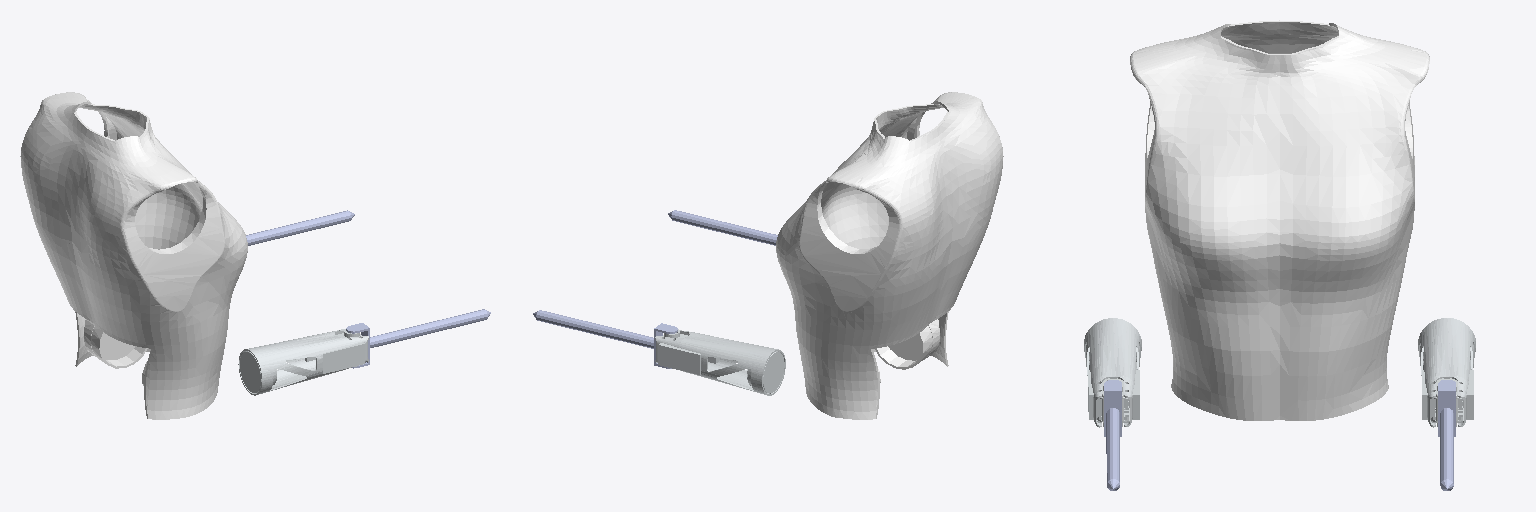
The robot description file, URDF, robot "rev4":
<?xml version="1.0"?>
<robot
  name="rev4">
  <link
    name="base_link">
    <inertial>
      <origin
        xyz="0.0329607884968544 0.000122106039684568 -0.145826303936265"
        rpy="0 0 0" />
      <mass
        value="1.27038003044167" />
      <inertia
        ixx="0"
        ixy="0"
        ixz="0"
        iyy="0"
        iyz="0"
        izz="0" />
    </inertial>
    <visual>
      <origin
        xyz="0 0 0"
        rpy="0 0 0" />
      <geometry>
        <mesh
          filename="package://robot_description/meshes/armtorso_meshes/base_link.STL" />
      </geometry>
      <material
        name="">
        <color
          rgba="1 1 1 1" />
      </material>
    </visual>
    <collision>
      <origin
        xyz="0 0 0"
        rpy="0 0 0" />
      <geometry>
        <mesh
          filename="package://robot_description/meshes/armtorso_meshes/base_link.STL" />
      </geometry>
    </collision>
  </link>
  <link
    name="ll1">
    <inertial>
      <origin
        xyz="-0.00034357189182932 -0.00466930923919515 0.0412611590398588"
        rpy="0 0 0" />
      <mass
        value="0.315360961838809" />
      <inertia
        ixx="0.000342438731972288"
        ixy="4.81994500628962E-07"
        ixz="-1.0264060282593E-06"
        iyy="0.000325395094600348"
        iyz="-6.04285307890119E-05"
        izz="1.7225614556389E-05" />
    </inertial>
    <visual>
      <origin
        xyz="0 0 0"
        rpy="0 0 0" />
      <geometry>
        <mesh
          filename="package://robot_description/meshes/armtorso_meshes/ll1.STL" />
      </geometry>
      <material
        name="">
        <color
          rgba="0.898039215686275 0.917647058823529 0.929411764705882 1" />
      </material>
    </visual>
    <collision>
      <origin
        xyz="0 0 0"
        rpy="0 0 0" />
      <geometry>
        <mesh
          filename="package://robot_description/meshes/armtorso_meshes/ll1.STL" />
      </geometry>
    </collision>
  </link>
  <joint
    name="lj1"
    type="continuous">
    <origin
      xyz="0 0.183193750000119 0"
      rpy="1.5707963267949 -1.5707963267949 0" />
    <parent
      link="base_link" />
    <child
      link="ll1" />
    <axis
      xyz="0 0 -1" />
  </joint>
  <link
    name="ll2">
    <inertial>
      <origin
        xyz="-2.11287683457573E-06 0.0291015209131721 -0.00624168975167459"
        rpy="0 0 0" />
      <mass
        value="0.255190986477211" />
      <inertia
        ixx="0.000253525719869403"
        ixy="-3.00155717932609E-07"
        ixz="-5.33391840457306E-08"
        iyy="8.23055872740016E-06"
        iyz="-4.3564803936616E-05"
        izz="0.000245319346241672" />
    </inertial>
    <visual>
      <origin
        xyz="0 0 0"
        rpy="0 0 0" />
      <geometry>
        <mesh
          filename="package://robot_description/meshes/armtorso_meshes/ll2.STL" />
      </geometry>
      <material
        name="">
        <color
          rgba="0.898039215686275 0.917647058823529 0.929411764705882 1" />
      </material>
    </visual>
    <collision>
      <origin
        xyz="0 0 0"
        rpy="0 0 0" />
      <geometry>
        <mesh
          filename="package://robot_description/meshes/armtorso_meshes/ll2.STL" />
      </geometry>
    </collision>
  </link>
  <joint
    name="lj2"
    type="continuous">
    <origin
      xyz="0 0 0"
      rpy="1.5707963267949 -1.5707963267949 0" />
    <parent
      link="ll1" />
    <child
      link="ll2" />
    <axis
      xyz="0 0 -1" />
  </joint>
  <link
    name="ll3">
    <inertial>
      <origin
        xyz="-0.000339752850006007 0.00429275324294051 0.0683223623888358"
        rpy="0 0 0" />
      <mass
        value="0.206515698122877" />
      <inertia
        ixx="0.00069096316753664"
        ixy="-2.62200541596234E-07"
        ixz="-1.17842076528629E-06"
        iyy="0.000683303977603341"
        iyz="5.89878221188908E-05"
        izz="7.78773574406472E-06" />
    </inertial>
    <visual>
      <origin
        xyz="0 0 0"
        rpy="0 0 0" />
      <geometry>
        <mesh
          filename="package://robot_description/meshes/armtorso_meshes/ll3.STL" />
      </geometry>
      <material
        name="">
        <color
          rgba="0.898039215686275 0.917647058823529 0.929411764705882 1" />
      </material>
    </visual>
    <collision>
      <origin
        xyz="0 0 0"
        rpy="0 0 0" />
      <geometry>
        <mesh
          filename="package://robot_description/meshes/armtorso_meshes/ll3.STL" />
      </geometry>
    </collision>
  </link>
  <joint
    name="lj3"
    type="continuous">
    <origin
      xyz="0 0.240400002275914 -0.00024999999999997"
      rpy="1.5707963267949 -1.5707963267949 0" />
    <parent
      link="ll2" />
    <child
      link="ll3" />
    <axis
      xyz="0 0 1" />
  </joint>
  <link
    name="ll4">
    <inertial>
      <origin
        xyz="0.00139633228108432 -0.0424435942679403 0.00540344070433235"
        rpy="0 0 0" />
      <mass
        value="0.184137871391256" />
      <inertia
        ixx="0.000242678931736446"
        ixy="1.05179627702468E-06"
        ixz="1.17610516748487E-06"
        iyy="9.10252727982671E-06"
        iyz="-4.07412226323047E-05"
        izz="0.000235416377622013" />
    </inertial>
    <visual>
      <origin
        xyz="0 0 0"
        rpy="0 0 0" />
      <geometry>
        <mesh
          filename="package://robot_description/meshes/armtorso_meshes/ll4.STL" />
      </geometry>
      <material
        name="">
        <color
          rgba="0.898039215686275 0.917647058823529 0.929411764705882 1" />
      </material>
    </visual>
    <collision>
      <origin
        xyz="0 0 0"
        rpy="0 0 0" />
      <geometry>
        <mesh
          filename="package://robot_description/meshes/armtorso_meshes/ll4.STL" />
      </geometry>
    </collision>
  </link>
  <joint
    name="lj4"
    type="continuous">
    <origin
      xyz="0 0 0"
      rpy="1.5707963267949 -1.5707963267949 0" />
    <parent
      link="ll3" />
    <child
      link="ll4" />
    <axis
      xyz="0 0 -1" />
  </joint>
  <link
    name="ll5">
    <inertial>
      <origin
        xyz="0.00151441911350195 -7.25240896322088E-05 -0.069297557080465"
        rpy="0 0 0" />
      <mass
        value="0.230283275172606" />
      <inertia
        ixx="0.000635133711815549"
        ixy="1.22847497871438E-07"
        ixz="-5.92923903340212E-07"
        iyy="0.000658075144620221"
        iyz="-9.33169026074131E-07"
        izz="2.30247448175587E-05" />
    </inertial>
    <visual>
      <origin
        xyz="0 0 0"
        rpy="0 0 0" />
      <geometry>
        <mesh
          filename="package://robot_description/meshes/armtorso_meshes/ll5.STL" />
      </geometry>
      <material
        name="">
        <color
          rgba="0.898039215686275 0.917647058823529 0.929411764705882 1" />
      </material>
    </visual>
    <collision>
      <origin
        xyz="0 0 0"
        rpy="0 0 0" />
      <geometry>
        <mesh
          filename="package://robot_description/meshes/armtorso_meshes/ll5.STL" />
      </geometry>
    </collision>
  </link>
  <joint
    name="lj5"
    type="continuous">
    <origin
      xyz="0 -0.25576 0"
      rpy="1.5707963267949 -1.5707963267949 0" />
    <parent
      link="ll4" />
    <child
      link="ll5" />
    <axis
      xyz="0 0 -1" />
  </joint>
  <link
    name="ll6">
    <inertial>
      <origin
        xyz="0.0999973593534134 -1.3436474155526E-13 -1.68782354532659E-05"
        rpy="0 0 0" />
      <mass
        value="0.0395372178052721" />
      <inertia
        ixx="0"
        ixy="0"
        ixz="0"
        iyy="0"
        iyz="0"
        izz="0" />
    </inertial>
    <visual>
      <origin
        xyz="0 0 0"
        rpy="0 0 0" />
      <geometry>
        <mesh
          filename="package://robot_description/meshes/armtorso_meshes/ll6.STL" />
      </geometry>
      <material
        name="">
        <color
          rgba="0.792156862745098 0.819607843137255 0.933333333333333 1" />
      </material>
    </visual>
    <collision>
      <origin
        xyz="0 0 0"
        rpy="0 0 0" />
      <geometry>
        <mesh
          filename="package://robot_description/meshes/armtorso_meshes/ll6.STL" />
      </geometry>
    </collision>
  </link>
  <joint
    name="lj6"
    type="continuous">
    <origin
      xyz="0 0 0"
      rpy="1.5707963267949 -1.5707963267949 0" />
    <parent
      link="ll5" />
    <child
      link="ll6" />
    <axis
      xyz="0 0 1" />
  </joint>
  <link
    name="rl1">
    <inertial>
      <origin
        xyz="0.000278219255670176 0.00463932835486651 -0.0412947578376532"
        rpy="0 0 0" />
      <mass
        value="0.315556520537943" />
      <inertia
        ixx="0.000342361892391865"
        ixy="4.53790223768121E-07"
        ixz="-9.76831952426691E-07"
        iyy="0.000325227855742051"
        iyz="-6.07475462857799E-05"
        izz="1.73014807795384E-05" />
    </inertial>
    <visual>
      <origin
        xyz="0 0 0"
        rpy="0 0 0" />
      <geometry>
        <mesh
          filename="package://robot_description/meshes/armtorso_meshes/rl1.STL" />
      </geometry>
      <material
        name="">
        <color
          rgba="0.898039215686275 0.917647058823529 0.929411764705882 1" />
      </material>
    </visual>
    <collision>
      <origin
        xyz="0 0 0"
        rpy="0 0 0" />
      <geometry>
        <mesh
          filename="package://robot_description/meshes/armtorso_meshes/rl1.STL" />
      </geometry>
    </collision>
  </link>
  <joint
    name="rj1"
    type="continuous">
    <origin
      xyz="0 -0.183193749999881 0"
      rpy="1.5707963267949 -1.5707963267949 0" />
    <parent
      link="base_link" />
    <child
      link="rl1" />
    <axis
      xyz="0 0 -1" />
  </joint>
  <link
    name="rl2">
    <inertial>
      <origin
        xyz="-2.06801231006915E-05 0.0291080346972264 -0.00624670661171617"
        rpy="0 0 0" />
      <mass
        value="0.25519098510684" />
      <inertia
        ixx="0.000253410044327156"
        ixy="-1.75249809031122E-08"
        ixz="-1.13245407142194E-08"
        iyy="8.21460143029922E-06"
        iyz="-4.35016812938318E-05"
        izz="0.000245218313744007" />
    </inertial>
    <visual>
      <origin
        xyz="0 0 0"
        rpy="0 0 0" />
      <geometry>
        <mesh
          filename="package://robot_description/meshes/armtorso_meshes/rl2.STL" />
      </geometry>
      <material
        name="">
        <color
          rgba="0.898039215686275 0.917647058823529 0.929411764705882 1" />
      </material>
    </visual>
    <collision>
      <origin
        xyz="0 0 0"
        rpy="0 0 0" />
      <geometry>
        <mesh
          filename="package://robot_description/meshes/armtorso_meshes/rl2.STL" />
      </geometry>
    </collision>
  </link>
  <joint
    name="rj2"
    type="continuous">
    <origin
      xyz="0 0 0"
      rpy="1.5707963267949 1.5707963267949 -3.14" />
    <parent
      link="rl1" />
    <child
      link="rl2" />
    <axis
      xyz="0 0 1" />
  </joint>
  <link
    name="rl3">
    <inertial>
      <origin
        xyz="0.000344957622254196 0.00427176802751622 -0.0682962841896071"
        rpy="0 0 0" />
      <mass
        value="0.206515698049736" />
      <inertia
        ixx="0.000691736269105036"
        ixy="2.520385836458E-07"
        ixz="-1.22768729962472E-06"
        iyy="0.000684038609852435"
        iyz="-5.93564809476736E-05"
        izz="7.82416722622183E-06" />
    </inertial>
    <visual>
      <origin
        xyz="0 0 0"
        rpy="0 0 0" />
      <geometry>
        <mesh
          filename="package://robot_description/meshes/armtorso_meshes/rl3.STL" />
      </geometry>
      <material
        name="">
        <color
          rgba="0.898039215686275 0.917647058823529 0.929411764705882 1" />
      </material>
    </visual>
    <collision>
      <origin
        xyz="0 0 0"
        rpy="0 0 0" />
      <geometry>
        <mesh
          filename="package://robot_description/meshes/armtorso_meshes/rl3.STL" />
      </geometry>
    </collision>
  </link>
  <joint
    name="rj3"
    type="continuous">
    <origin
      xyz="0 0.240399723378086 -0.000250000000000402"
      rpy="-1.5707963267949 1.5707963267949 0" />
    <parent
      link="rl2" />
    <child
      link="rl3" />
    <axis
      xyz="0 0 -1" />
  </joint>
  <link
    name="rl4">
    <inertial>
      <origin
        xyz="-0.00133055570602497 -0.0424431233002572 -0.00540127948713859"
        rpy="0 0 0" />
      <mass
        value="0.184137868298514" />
      <inertia
        ixx="0.000242690504114107"
        ixy="-1.52184878661577E-06"
        ixz="1.27267482690803E-06"
        iyy="9.13991296030902E-06"
        iyz="4.0758407610107E-05"
        izz="0.000235456800187344" />
    </inertial>
    <visual>
      <origin
        xyz="0 0 0"
        rpy="0 0 0" />
      <geometry>
        <mesh
          filename="package://robot_description/meshes/armtorso_meshes/rl4.STL" />
      </geometry>
      <material
        name="">
        <color
          rgba="0.898039215686275 0.917647058823529 0.929411764705882 1" />
      </material>
    </visual>
    <collision>
      <origin
        xyz="0 0 0"
        rpy="0 0 0" />
      <geometry>
        <mesh
          filename="package://robot_description/meshes/armtorso_meshes/rl4.STL" />
      </geometry>
    </collision>
  </link>
  <joint
    name="rj4"
    type="continuous">
    <origin
      xyz="0 0 0"
      rpy="1.5707963267949 1.5707963267949 3.14" />
    <parent
      link="rl3" />
    <child
      link="rl4" />
    <axis
      xyz="0 0 -1" />
  </joint>
  <link
    name="rl5">
    <inertial>
      <origin
        xyz="-0.00151175465822562 -2.68008824455546E-05 0.0692975570774478"
        rpy="0 0 0" />
      <mass
        value="0.230283276049318" />
      <inertia
        ixx="0.000635134338783886"
        ixy="-1.39936994825698E-07"
        ixz="-6.3942267953407E-07"
        iyy="0.00065807741661805"
        iyz="1.36986694295629E-07"
        izz="2.30276476699162E-05" />
    </inertial>
    <visual>
      <origin
        xyz="0 0 0"
        rpy="0 0 0" />
      <geometry>
        <mesh
          filename="package://robot_description/meshes/armtorso_meshes/rl5.STL" />
      </geometry>
      <material
        name="">
        <color
          rgba="0.898039215686275 0.917647058823529 0.929411764705882 1" />
      </material>
    </visual>
    <collision>
      <origin
        xyz="0 0 0"
        rpy="0 0 0" />
      <geometry>
        <mesh
          filename="package://robot_description/meshes/armtorso_meshes/rl5.STL" />
      </geometry>
    </collision>
  </link>
  <joint
    name="rj5"
    type="continuous">
    <origin
      xyz="0 -0.255760000000001 0"
      rpy="-1.5707963267949 1.5707963267949 0" />
    <parent
      link="rl4" />
    <child
      link="rl5" />
    <axis
      xyz="0 0 1" />
  </joint>
  <link
    name="rl6">
    <inertial>
      <origin
        xyz="0.0999973593534124 1.35336186701807E-13 1.68782354532104E-05"
        rpy="0 0 0" />
      <mass
        value="0.0395372178052722" />
      <inertia
        ixx="0"
        ixy="0"
        ixz="0"
        iyy="0"
        iyz="0"
        izz="0" />
    </inertial>
    <visual>
      <origin
        xyz="0 0 0"
        rpy="0 0 0" />
      <geometry>
        <mesh
          filename="package://robot_description/meshes/armtorso_meshes/rl6.STL" />
      </geometry>
      <material
        name="">
        <color
          rgba="0.792156862745098 0.819607843137255 0.933333333333333 1" />
      </material>
    </visual>
    <collision>
      <origin
        xyz="0 0 0"
        rpy="0 0 0" />
      <geometry>
        <mesh
          filename="package://robot_description/meshes/armtorso_meshes/rl6.STL" />
      </geometry>
    </collision>
  </link>
  <joint
    name="rj6"
    type="continuous">
    <origin
      xyz="0 0 0"
      rpy="-1.5707963267949 1.5707963267949 0" />
    <parent
      link="rl5" />
    <child
      link="rl6" />
    <axis
      xyz="0 0 -1" />
  </joint>
</robot>

--- Render facts (derived) ---
Views: 3 orthographic renders of the robot side by side, from view 1: azimuth 30°, elevation 25°; view 2: azimuth 150°, elevation 25°; view 3: azimuth 270°, elevation 25°.
Robot: rev4 — 13 links, 12 joints (12 continuous); root link base_link; default pose: all joints at 0.
Links seen in each view (by area): view 1: base_link, rl5, rl6, ll6; view 2: base_link, ll5, ll6, rl6; view 3: base_link, ll5, rl5, ll6, rl6.
Link boxes in pixels (bbox=[...]): base_link: bbox=[20, 92, 247, 419]; rl5: bbox=[238, 329, 368, 395]; rl6: bbox=[346, 309, 490, 368]; ll6: bbox=[246, 210, 354, 245]; base_link: bbox=[776, 92, 1003, 419]; ll5: bbox=[655, 329, 785, 395]; ll6: bbox=[533, 310, 677, 368]; rl6: bbox=[668, 210, 777, 245]; base_link: bbox=[1130, 20, 1429, 420]; ll5: bbox=[1418, 318, 1475, 427]; rl5: bbox=[1084, 318, 1141, 427]; ll6: bbox=[1438, 380, 1455, 490]; rl6: bbox=[1104, 380, 1121, 490].
Bounding box of the posed robot: 0.5614 × 0.4302 × 0.4093 m (x, y, z).
Meshes: 13 distinct files referenced, 5 mesh visuals loaded (5 binary STL); not drawn: 8 (reference not matched to a file when rendering).